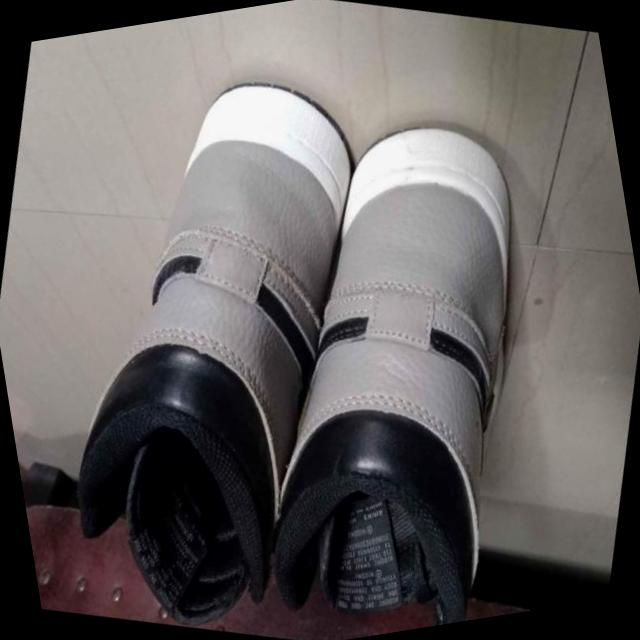nike_fake_jordan: (0, 31, 445, 640), (186, 77, 616, 640)
